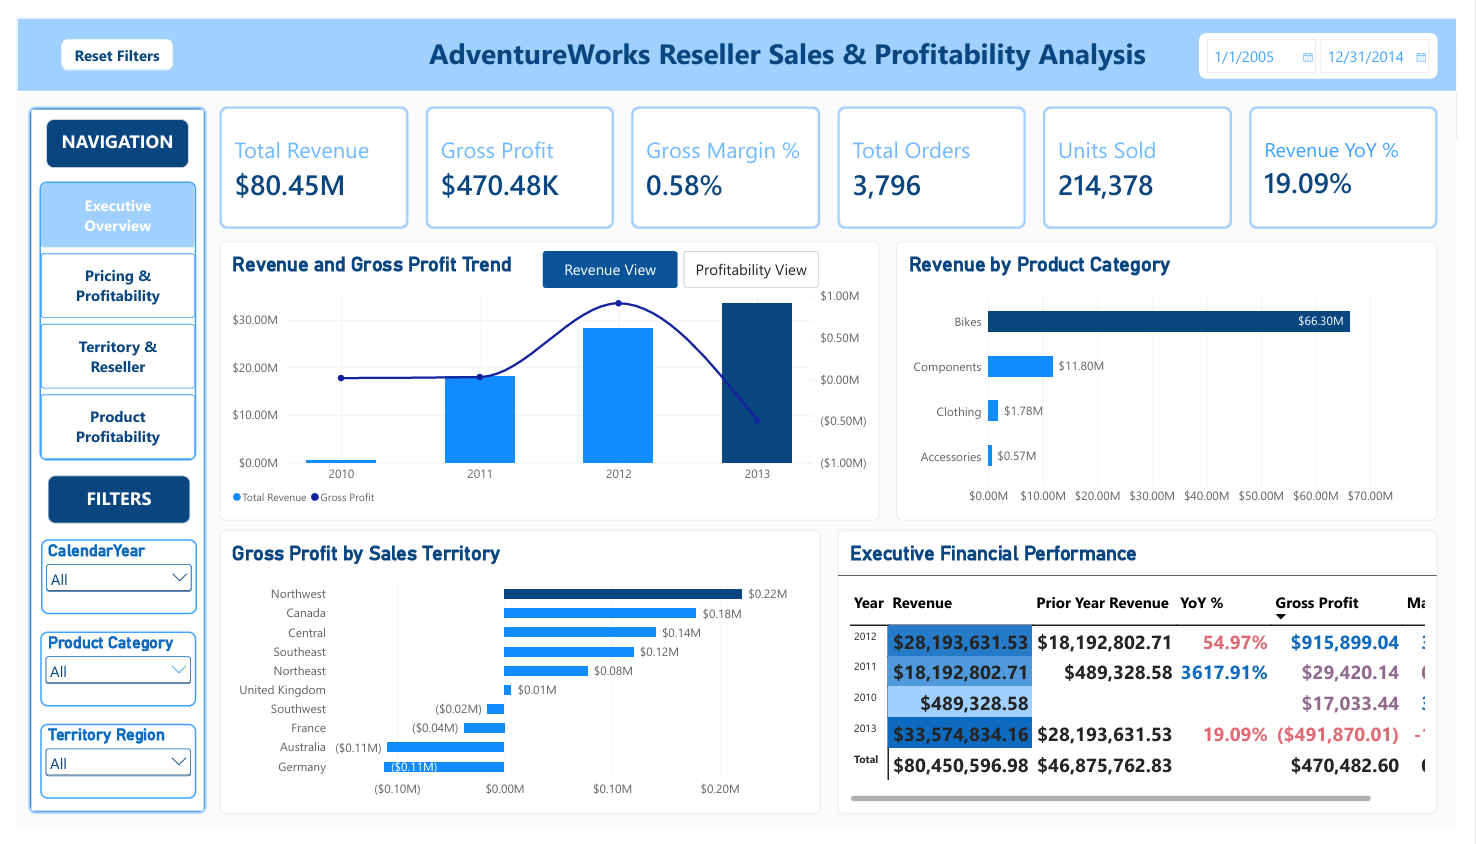

The dashboard page shown, as its layout file describes it:
{"tool":"powerbi","page":{"name":"Executive Overview","canvas":[1920,1080],"ordinal":0},"visuals":[{"type":"cardVisual","fields":{"Data":["_Measures.Total Revenue"]},"box":[270.4,118.1,251.6,162.6],"z":0},{"type":"shape","box":[0,0,1920,98],"z":1000},{"type":"shape","box":[14.8,117.9,238.6,943.5],"z":2000},{"type":"textbox","box":[478.6,14.3,1096.9,70.3],"z":3000},{"type":"cardVisual","fields":{"Data":["_Measures.Gross Profit"]},"box":[544.9,118.1,251.6,162.6],"z":4000},{"type":"cardVisual","fields":{"Data":["_Measures.Gross Margin %"]},"box":[819.3,118.1,251.6,162.6],"z":5000},{"type":"cardVisual","fields":{"Data":["_Measures.Jan-Nov Revenue Growth %"]},"box":[1093.8,118.1,251.6,162.6],"z":6000},{"type":"cardVisual","fields":{"Data":["_Measures.Jan-Nov GP Change"]},"box":[1368.3,118.1,251.6,162.6],"z":7000},{"type":"cardVisual","fields":{"Data":["_Measures.Jan-Nov GM Change Display"]},"box":[1642.8,118.1,251.6,162.6],"z":8000},{"type":"lineClusteredColumnComboChart","title":"Jan–Nov Revenue & Gross Profit Trend","fields":{"Category":["DimDate.CalendarYear","DimDate.EnglishMonthName"],"Y":["_Measures.Comparable Period Revenue"],"Y2":["_Measures.Comparable Period GP"]},"box":[270.3,298.1,879.5,372.2],"z":9000},{"type":"clusteredBarChart","title":"Revenue by Product Category ","fields":{"Category":["DimProductCategory.EnglishProductCategoryName"],"Y":["_Measures.Total Revenue"]},"box":[1172,298.1,722.1,372.2],"z":10000},{"type":"clusteredBarChart","title":"Gross Profit by Sales Territory ","fields":{"Category":["DimSalesTerritory.SalesTerritoryRegion"],"Y":["_Measures.Gross Profit"]},"box":[270.3,683.2,801.7,377.7],"z":11000},{"type":"pivotTable","title":"Annual Financial Performance ","fields":{"Rows":["DimDate.CalendarYear"],"Values":["_Measures.Total Revenue","_Measures.Revenue LY","_Measures.YoY Revenue %","_Measures.Gross Profit","_Measures.Gross Margin %"]},"box":[1094.2,683.6,799.8,377.7],"z":12000},{"type":"textbox","box":[38.9,135,190.5,64.7],"z":13000},{"type":"textbox","box":[40.8,610.4,190.5,64],"z":14000},{"type":"slicer","fields":{"Values":["DimDate.FullDateAlternateKey"]},"box":[1576,20.3,318.2,61],"z":15000},{"type":"slicer","fields":{"Values":["DimDate.CalendarYear"]},"box":[32.4,694.5,208,100],"z":16000},{"type":"slicer","fields":{"Values":["DimProductCategory.EnglishProductCategoryName"]},"box":[30.8,817.5,208.5,100],"z":17000},{"type":"slicer","fields":{"Values":["DimSalesTerritory.SalesTerritoryRegion"]},"box":[30.8,940.6,208.5,100],"z":18000},{"type":"pageNavigator","box":[30.2,218.1,208.5,371.7],"z":19000},{"type":"actionButton","box":[59.5,28.2,148.7,42.2],"z":21000},{"type":"bookmarkNavigator","box":[775.4,308.4,368.9,49.6],"z":22000}]}

Visuals, with their boxes in screenshot pixels (x1, y1, x2, y2), scaled from the page's 1920x1080 canvas onto the 1476x844 screenshot:
cardVisual - _Measures.Total Revenue: left=208, top=92, right=401, bottom=219
shape: left=0, top=0, right=1475, bottom=77
shape: left=11, top=92, right=195, bottom=829
textbox: left=368, top=11, right=1211, bottom=66
cardVisual - _Measures.Gross Profit: left=419, top=92, right=612, bottom=219
cardVisual - _Measures.Gross Margin %: left=630, top=92, right=823, bottom=219
cardVisual - _Measures.Jan-Nov Revenue Growth %: left=841, top=92, right=1034, bottom=219
cardVisual - _Measures.Jan-Nov GP Change: left=1052, top=92, right=1245, bottom=219
cardVisual - _Measures.Jan-Nov GM Change Display: left=1263, top=92, right=1456, bottom=219
"Jan–Nov Revenue & Gross Profit Trend" lineClusteredColumnComboChart: left=208, top=233, right=884, bottom=524
"Revenue by Product Category " clusteredBarChart: left=901, top=233, right=1456, bottom=524
"Gross Profit by Sales Territory " clusteredBarChart: left=208, top=534, right=824, bottom=829
"Annual Financial Performance " pivotTable: left=841, top=534, right=1456, bottom=829
textbox: left=30, top=106, right=176, bottom=156
textbox: left=31, top=477, right=178, bottom=527
slicer - DimDate.FullDateAlternateKey: left=1212, top=16, right=1456, bottom=64
slicer - DimDate.CalendarYear: left=25, top=543, right=185, bottom=621
slicer - DimProductCategory.EnglishProductCategoryName: left=24, top=639, right=184, bottom=717
slicer - DimSalesTerritory.SalesTerritoryRegion: left=24, top=735, right=184, bottom=813
pageNavigator: left=23, top=170, right=184, bottom=461
actionButton: left=46, top=22, right=160, bottom=55
bookmarkNavigator: left=596, top=241, right=880, bottom=280
